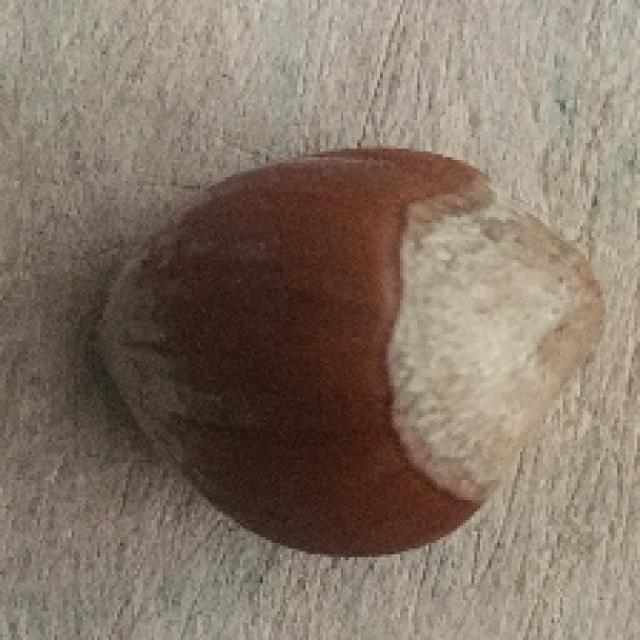qualityHazelnut: (96, 146, 606, 554)
